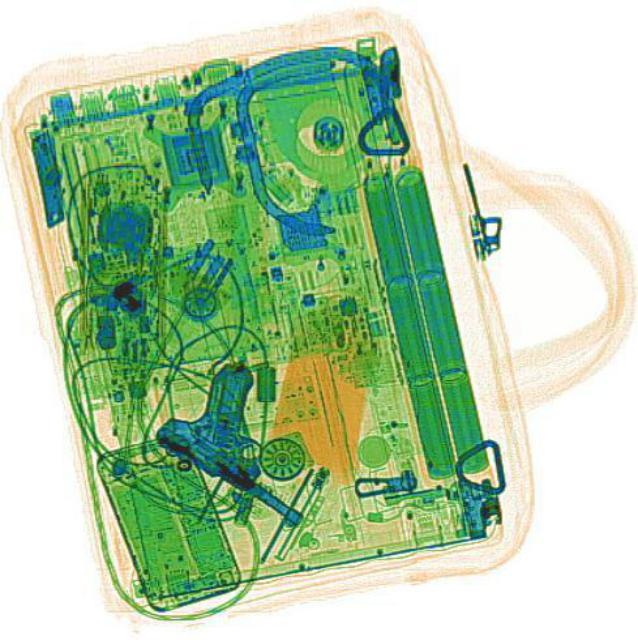Gun: (151, 352, 358, 530)
